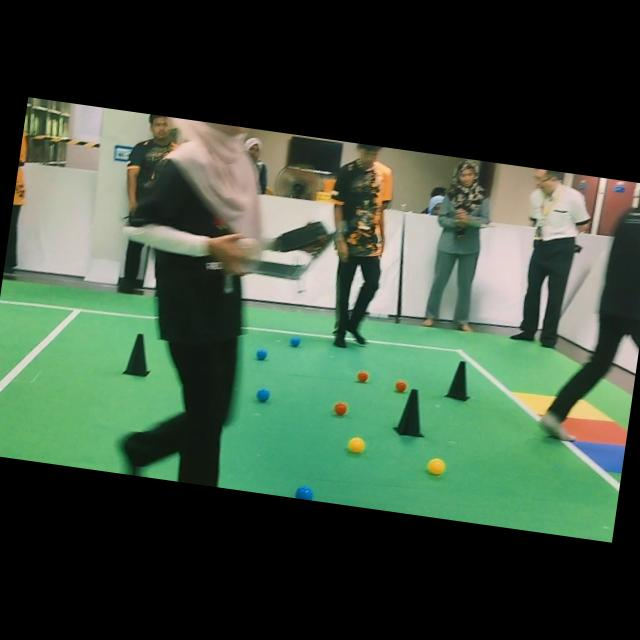ball: (427, 458, 445, 475), (348, 437, 366, 453), (334, 402, 348, 416), (395, 379, 408, 393), (356, 370, 369, 383), (256, 348, 267, 361), (290, 337, 301, 346)
goal: (563, 418, 628, 446), (574, 441, 625, 473), (568, 399, 614, 422), (514, 392, 555, 415)
